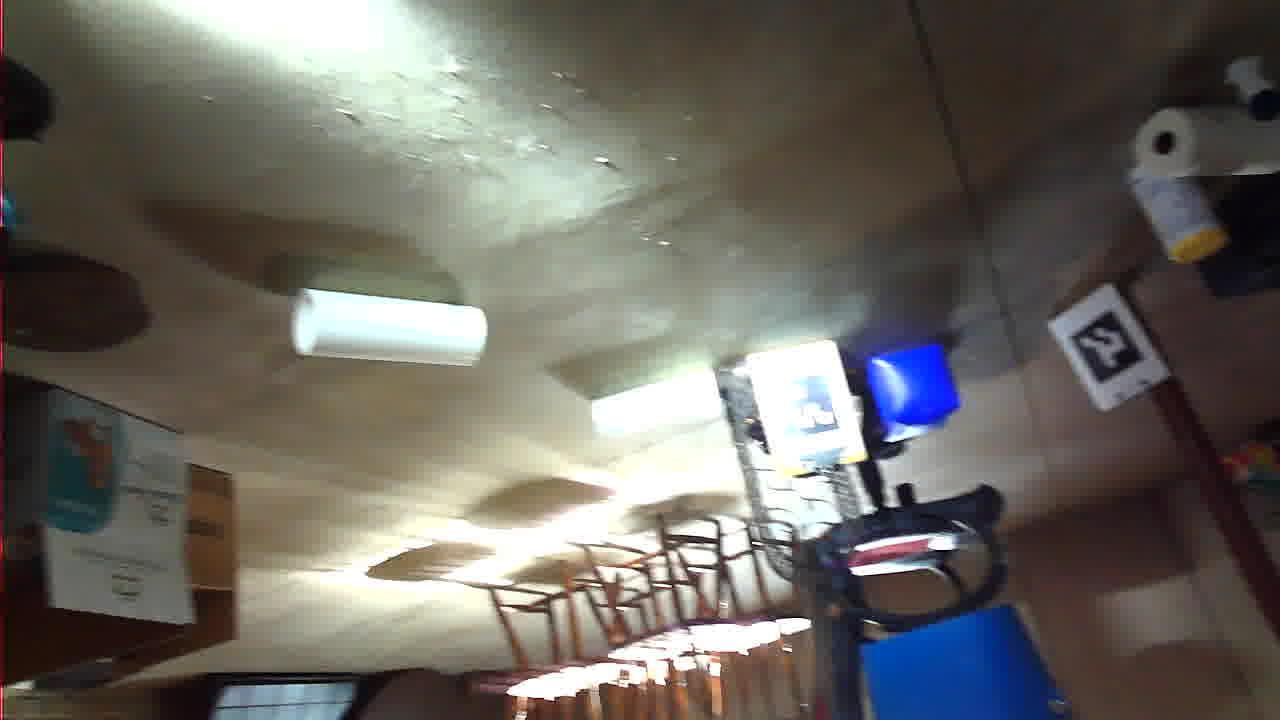coral: (795, 355, 987, 432), (558, 280, 688, 353)
